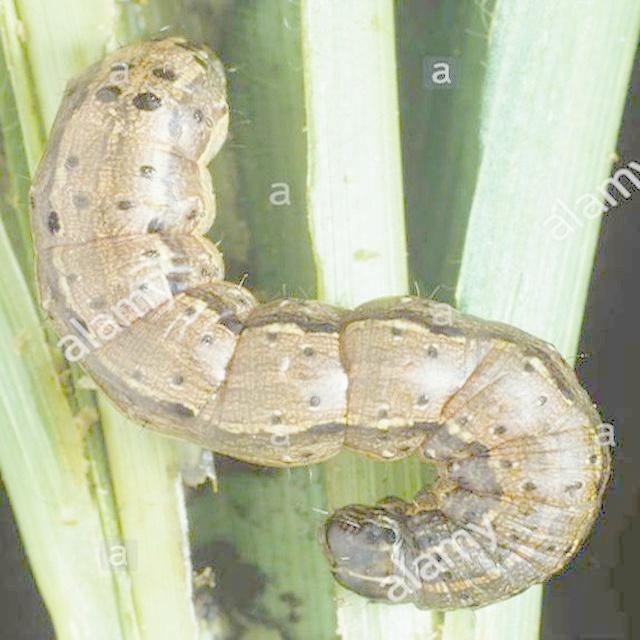gusano_cogollero: (19, 30, 614, 611)
